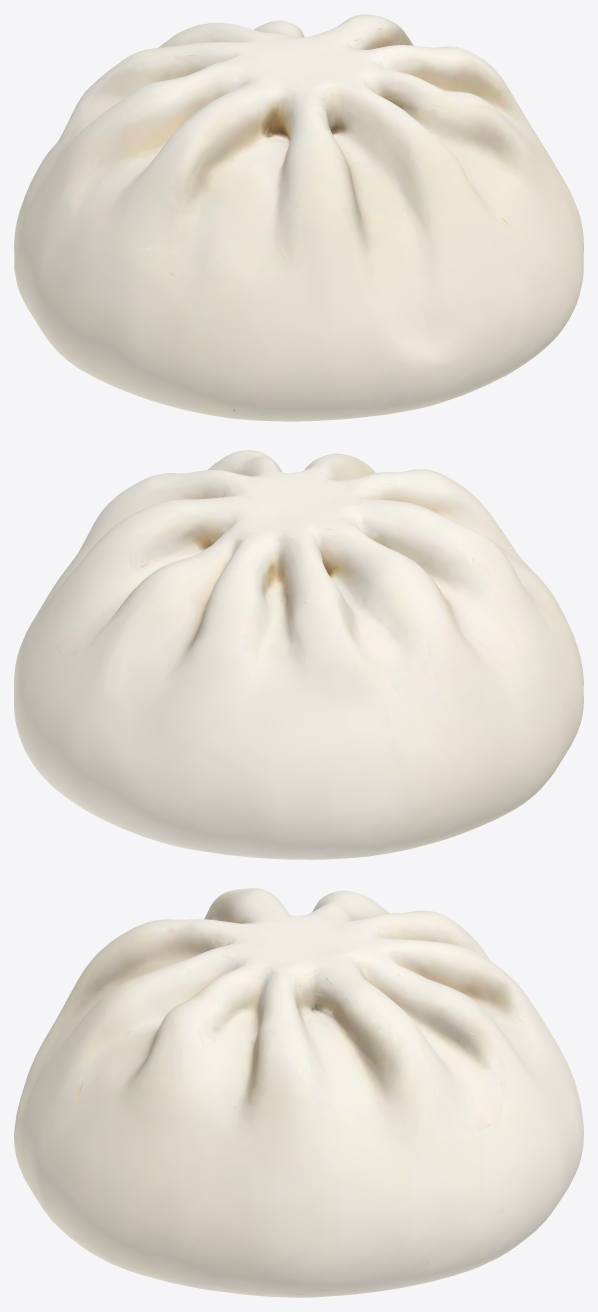
The model's file is baozi.glb.
The picture shows the model from 3 angles, top to bottom: view 1: azimuth 30°, elevation 25°; view 2: azimuth 150°, elevation 25°; view 3: azimuth 270°, elevation 25°; orthographic projection.
Visible parts, largest first — view 1: Mesh1.0; view 2: Mesh1.0; view 3: Mesh1.0.
Boxes of the visible parts, x1=… form: Mesh1.0: x1=14, y1=14, x2=583, y2=421; Mesh1.0: x1=14, y1=450, x2=583, y2=859; Mesh1.0: x1=14, y1=888, x2=583, y2=1297.
Size of the model in its own units: 1.91 by 0.9758 by 1.91.
1 material, 1 textured.
